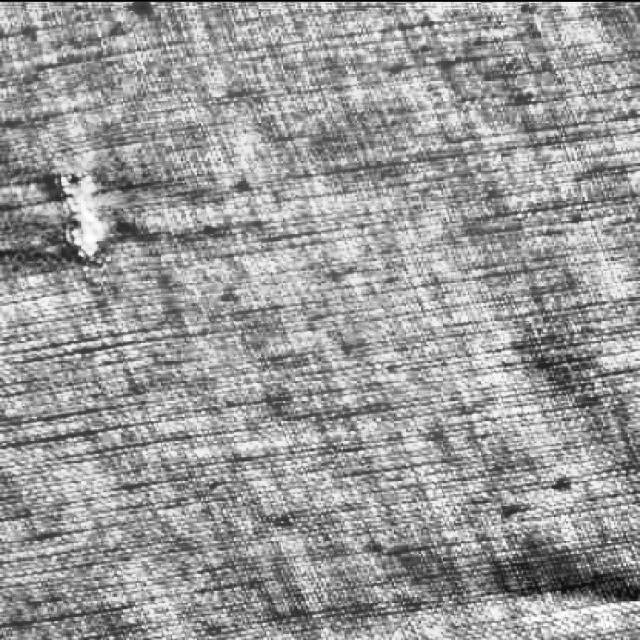hole: (45, 148, 120, 275)
